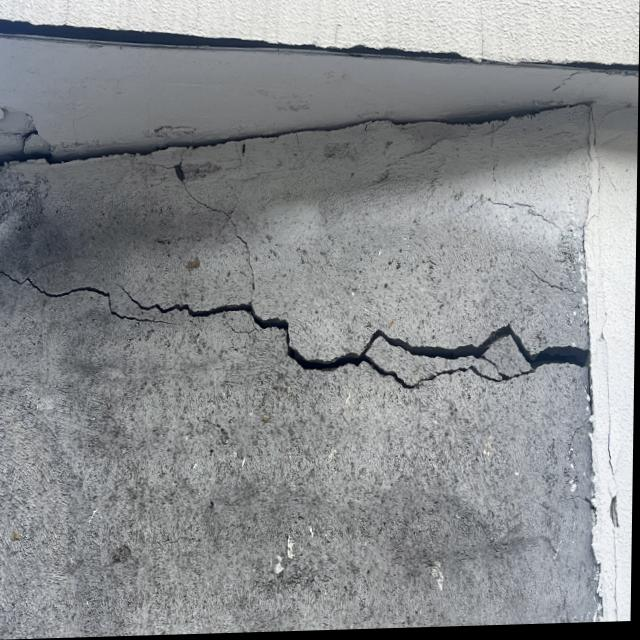crack: (12, 256, 591, 417)
